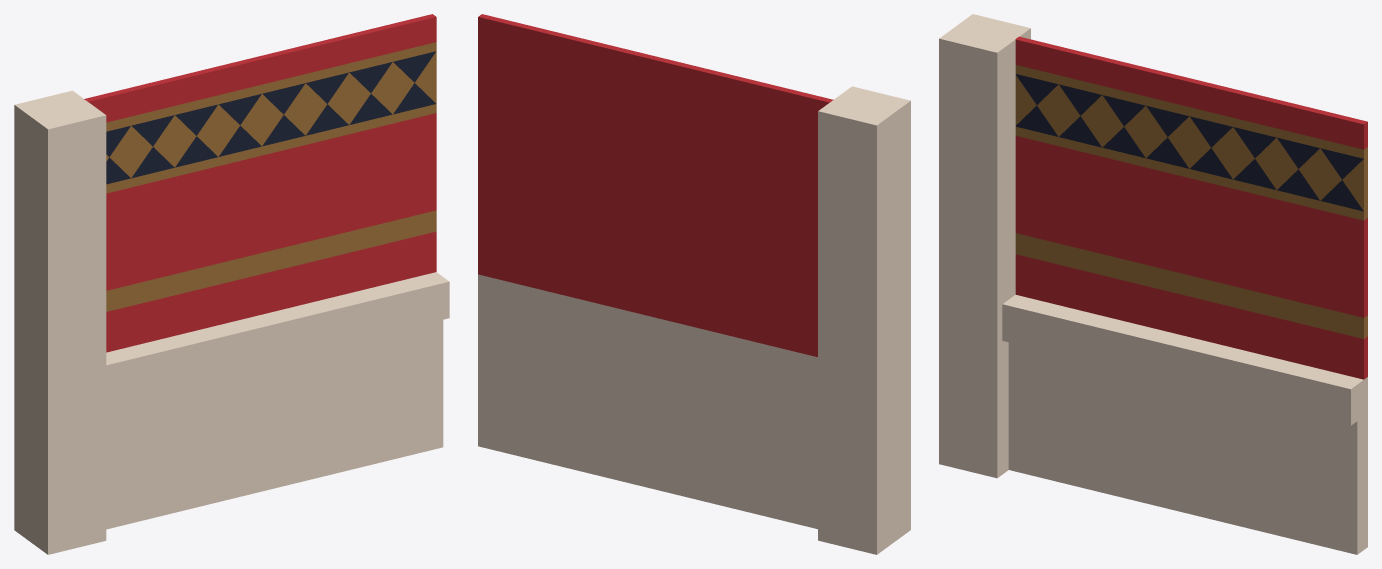
Rendered from empire-wall-r-3x3m-rim-empire.glb.
The picture shows the model from 3 angles, left to right: view 1: azimuth 30°, elevation 25°; view 2: azimuth 150°, elevation 25°; view 3: azimuth 330°, elevation 25°; orthographic projection.
Visible parts, largest first — view 1: SM_Wall_R_3x3m_Rim_Empire; view 2: SM_Wall_R_3x3m_Rim_Empire; view 3: SM_Wall_R_3x3m_Rim_Empire.
Boxes of the visible parts, left/top/right/bottom form: SM_Wall_R_3x3m_Rim_Empire: left=14, top=14, right=449, bottom=554; SM_Wall_R_3x3m_Rim_Empire: left=478, top=14, right=910, bottom=554; SM_Wall_R_3x3m_Rim_Empire: left=939, top=14, right=1367, bottom=554.
Size of the model in its own units: 3 by 3 by 0.43.
